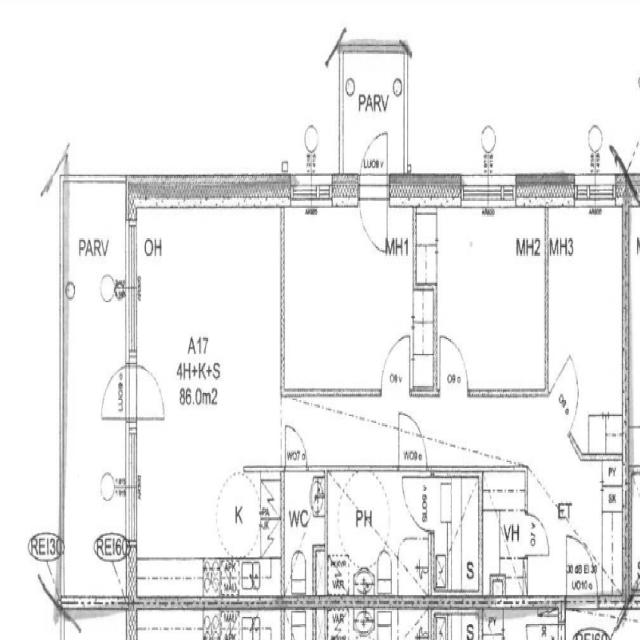door: (357, 125, 392, 255), (564, 526, 598, 598), (379, 328, 411, 398), (438, 329, 470, 394), (133, 361, 167, 422), (396, 408, 428, 471), (400, 469, 430, 534), (550, 350, 582, 407), (99, 364, 127, 421), (282, 419, 310, 471), (524, 510, 552, 558)
window: (120, 214, 142, 370), (121, 420, 141, 553), (458, 173, 518, 212), (288, 173, 337, 210), (571, 176, 620, 212), (122, 215, 140, 296)
zone: (280, 203, 408, 398), (433, 206, 549, 396), (548, 200, 628, 454), (323, 468, 433, 598), (433, 473, 482, 596), (481, 475, 527, 601), (282, 467, 326, 596), (623, 199, 640, 457), (629, 465, 640, 597)
